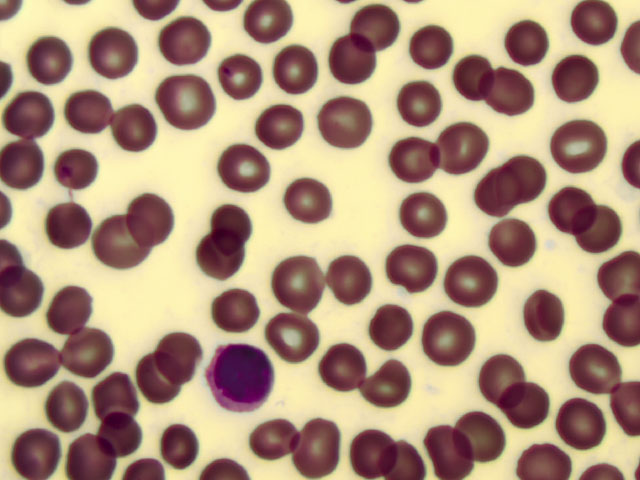RBC: (25, 35, 77, 87), (87, 29, 139, 81), (66, 85, 118, 137), (1, 88, 53, 140), (44, 143, 96, 195), (44, 193, 96, 245), (92, 219, 144, 271), (124, 192, 176, 244), (46, 272, 98, 324), (59, 331, 111, 383), (3, 330, 55, 382), (41, 385, 93, 437), (2, 428, 54, 480), (68, 428, 120, 480), (96, 403, 148, 455), (92, 362, 144, 414), (130, 358, 182, 410), (153, 324, 205, 376), (196, 238, 248, 290), (216, 193, 268, 245), (219, 143, 271, 195), (161, 73, 213, 125), (120, 98, 172, 150), (161, 22, 213, 74), (207, 47, 259, 99), (269, 43, 321, 95), (243, 2, 295, 54), (328, 34, 380, 86), (348, 5, 400, 57), (322, 95, 374, 147), (258, 102, 310, 154), (277, 173, 329, 225), (269, 258, 321, 310), (212, 283, 264, 335), (266, 311, 318, 363), (318, 340, 370, 392), (368, 362, 420, 414), (363, 300, 415, 352), (325, 258, 377, 310), (383, 244, 435, 296), (397, 188, 449, 240), (387, 131, 439, 183), (434, 122, 486, 174), (392, 75, 444, 127), (401, 22, 453, 74), (447, 46, 499, 98), (488, 67, 540, 119), (499, 15, 551, 67), (571, 3, 623, 55), (549, 52, 601, 104), (551, 126, 603, 178), (510, 154, 562, 206), (474, 167, 526, 219), (482, 214, 534, 266), (532, 187, 584, 239), (565, 200, 617, 252), (588, 250, 640, 302), (588, 293, 640, 345), (569, 344, 621, 396), (522, 291, 574, 343), (448, 255, 500, 307), (427, 309, 479, 361), (475, 347, 527, 399), (497, 376, 549, 428), (551, 398, 603, 450), (519, 428, 571, 480), (454, 412, 506, 464), (427, 425, 479, 477), (390, 428, 442, 480), (341, 425, 393, 477), (292, 420, 344, 472), (248, 412, 300, 464), (151, 419, 203, 471), (1, 129, 52, 181)
WBC: (209, 343, 275, 413)
